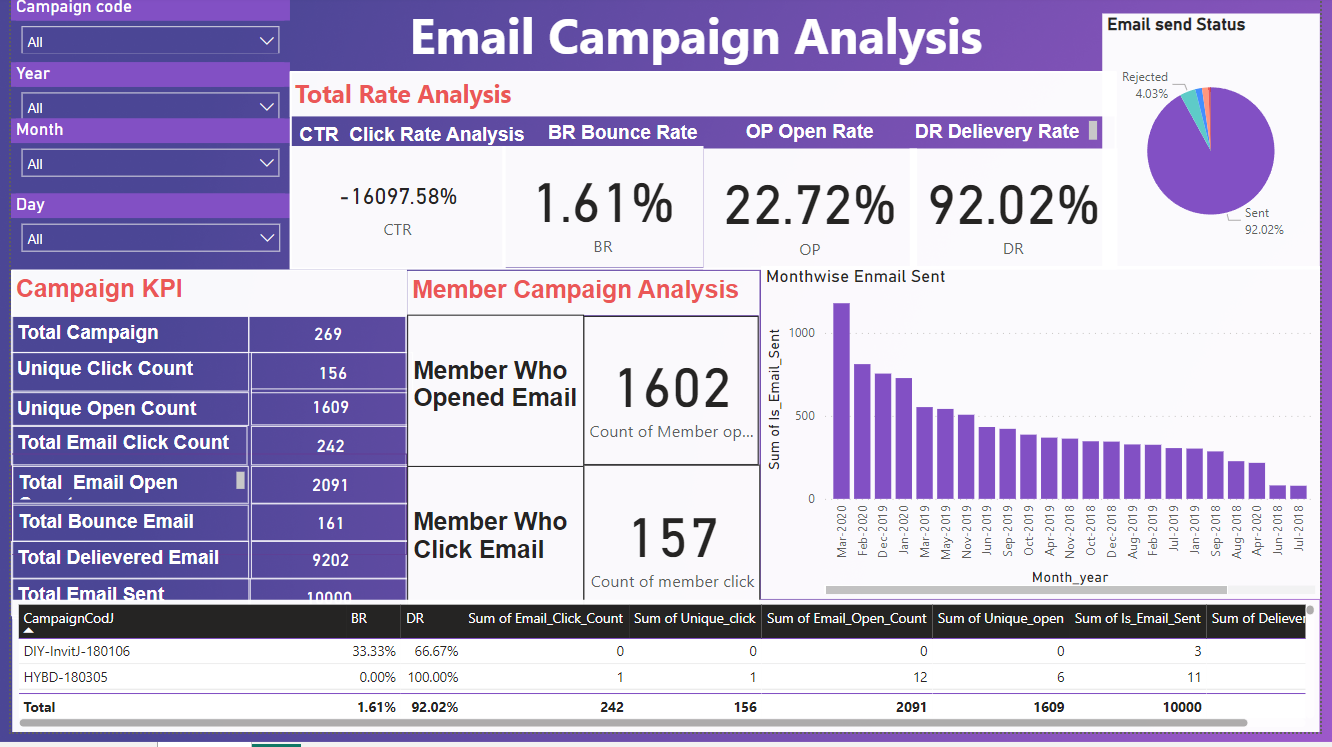

Layout of this report page (visuals, bound fields, positions):
{"tool":"powerbi","page":{"name":"Page 1","canvas":[1280,720],"ordinal":0},"visuals":[{"type":"slicer","title":"Campaign code","fields":{"Values":["EmailAnalysis xlsx - TBL_Communication.Email_SentDate"]},"box":[0,0,272.5,56.2],"z":0},{"type":"slicer","title":"Year","fields":{"Values":["EmailAnalysis xlsx - TBL_Communication.Email_SentDate.Variation.Date Hierarchy.Year"]},"box":[0,65,272.5,63.8],"z":1000},{"type":"slicer","title":"Month","fields":{"Values":["EmailAnalysis xlsx - TBL_Communication.Email_SentDate.Variation.Date Hierarchy.Month"]},"box":[0,120,272.5,72.5],"z":2000},{"type":"slicer","title":"Day","fields":{"Values":["EmailAnalysis xlsx - TBL_Communication.Email_SentDate.Variation.Date Hierarchy.Day"]},"box":[0,192.9,272.9,74.3],"z":3000},{"type":"textbox","box":[272.9,0,794.3,77.1],"z":4000},{"type":"shape","box":[272.9,72.9,808.6,194.3],"z":5000},{"type":"textbox","box":[272.9,74.3,808.6,42.9],"z":6000},{"type":"textbox","box":[273.1,119.5,238.9,31.3],"z":7000},{"type":"textbox","box":[510,118.6,177.1,31.4],"z":8000},{"type":"textbox","box":[697.1,117.1,168.6,31.4],"z":9000},{"type":"textbox","box":[878.6,117.1,188.6,30],"z":10000},{"type":"shape","box":[1.4,267.1,385.7,341.4],"z":11000},{"type":"textbox","box":[0,267.1,387.1,45.7],"z":12000},{"type":"shape","box":[0,447.9,387.3,99.5],"z":13000},{"type":"textbox","box":[0,348.6,232.9,38.6],"z":14000},{"type":"textbox","box":[0,312.9,232.9,35.7],"z":15000},{"type":"textbox","box":[0,387.1,232.9,32.9],"z":16000},{"type":"textbox","box":[0,420,231.4,38.6],"z":17000},{"type":"textbox","box":[1.4,460,231.4,37.1],"z":18000},{"type":"textbox","box":[1.4,497.1,231.4,35.7],"z":19000},{"type":"textbox","box":[0,532.9,232.9,37.1],"z":20000},{"type":"textbox","box":[0,570,234.3,37.1],"z":21000},{"type":"card","fields":{"Values":["Count(EmailAnalysis xlsx - TBL_Communication.CampaignCodJ)"]},"box":[232.9,312.9,154.3,35.7],"z":22000},{"type":"card","fields":{"Values":["Sum(EmailAnalysis xlsx - TBL_Communication.Unique_click)"]},"box":[234.3,348.6,158.6,40],"z":23000},{"type":"card","fields":{"Values":["Sum(EmailAnalysis xlsx - TBL_Communication.Unique_open)"]},"box":[234.3,384.3,154.3,35.7],"z":24000},{"type":"card","fields":{"Values":["Sum(EmailAnalysis xlsx - TBL_Communication.Email_Click_Count)"]},"box":[234.3,420,154.3,38.6],"z":25000},{"type":"card","fields":{"Values":["Sum(EmailAnalysis xlsx - TBL_Communication.Email_Open_Count)"]},"box":[234.3,460,154.3,37.1],"z":26000},{"type":"card","fields":{"Values":["Sum(EmailAnalysis xlsx - TBL_Communication.Bounced_Email)"]},"box":[234.3,495.7,154.3,37.1],"z":27000},{"type":"card","fields":{"Values":["Sum(EmailAnalysis xlsx - TBL_Communication.Delievered_Email)"]},"box":[234.3,532.9,154.3,37.1],"z":28000},{"type":"card","fields":{"Values":["Sum(EmailAnalysis xlsx - TBL_Communication.Is_Email_Sent)"]},"box":[232.9,570,155.7,38.6],"z":29000},{"type":"card","fields":{"Values":["EmailAnalysis xlsx - TBL_Communication.CTR"]},"box":[272.9,147.1,211.4,120],"z":30000},{"type":"card","fields":{"Values":["EmailAnalysis xlsx - TBL_Communication.BR"]},"box":[480,147.1,197.1,118.6],"z":31000},{"type":"card","fields":{"Values":["EmailAnalysis xlsx - TBL_Communication.OP"]},"box":[677.1,148.6,208.6,118.6],"z":32000},{"type":"card","fields":{"Values":["EmailAnalysis xlsx - TBL_Communication.DR"]},"box":[878.6,148.6,202.9,117.1],"z":33000},{"type":"shape","box":[388.6,268.6,342.9,340],"z":34000},{"type":"textbox","box":[387.1,268.6,344.3,42.9],"z":35000},{"type":"textbox","box":[387.1,311.4,172.9,148.6],"z":36000},{"type":"textbox","box":[387.1,460,172.9,148.6],"z":37000},{"type":"card","fields":{"Values":["Count(EmailAnalysis xlsx - TBL_Communication.Member open)"]},"box":[560,312.9,171.4,145.7],"z":38000},{"type":"card","fields":{"Values":["Count(EmailAnalysis xlsx - TBL_Communication.member click)"]},"box":[560,458.6,172.9,148.6],"z":39000},{"type":"pieChart","title":"Email send Status","fields":{"Category":["EmailAnalysis xlsx - TBL_Communication.Email_Sent_Status"],"Y":["Sum(EmailAnalysis xlsx - TBL_Communication.Is_Email_Sent)"]},"box":[1067.1,17.1,212.9,250],"z":40000},{"type":"columnChart","title":" Monthwise Enmail Sent","fields":{"Category":["EmailAnalysis xlsx - TBL_Communication.Month_year"],"Y":["Sum(EmailAnalysis xlsx - TBL_Communication.Is_Email_Sent)"]},"box":[732.9,264.3,547.1,325.7],"z":41000},{"type":"tableEx","fields":{"Values":["EmailAnalysis xlsx - TBL_Communication.CampaignCodJ","EmailAnalysis xlsx - TBL_Communication.BR","EmailAnalysis xlsx - TBL_Communication.DR","Sum(EmailAnalysis xlsx - TBL_Communication.Email_Click_Count)","Sum(EmailAnalysis xlsx - TBL_Communication.Unique_click)","Sum(EmailAnalysis xlsx - TBL_Communication.Email_Open_Count)","Sum(EmailAnalysis xlsx - TBL_Communication.Unique_open)","Sum(EmailAnalysis xlsx - TBL_Communication.Is_Email_Sent)","Sum(EmailAnalysis xlsx - TBL_Communication.Delievered_Email)"]},"box":[1.4,590,1278.6,130],"z":42000}]}

Visuals, with their boxes in screenshot pixels (x1, y1, x2, y2), scaled from the page's 1280x720 canvas onto the 1332x747 screenshot:
"Campaign code" slicer: BBox(0, 0, 284, 58)
"Year" slicer: BBox(0, 67, 284, 134)
"Month" slicer: BBox(0, 125, 284, 200)
"Day" slicer: BBox(0, 200, 284, 277)
textbox: BBox(284, 0, 1111, 80)
shape: BBox(284, 76, 1125, 277)
textbox: BBox(284, 77, 1125, 122)
textbox: BBox(284, 124, 533, 156)
textbox: BBox(531, 123, 715, 156)
textbox: BBox(725, 121, 901, 154)
textbox: BBox(914, 121, 1111, 153)
shape: BBox(1, 277, 403, 631)
textbox: BBox(0, 277, 403, 325)
shape: BBox(0, 465, 403, 568)
textbox: BBox(0, 362, 242, 402)
textbox: BBox(0, 325, 242, 362)
textbox: BBox(0, 402, 242, 436)
textbox: BBox(0, 436, 241, 476)
textbox: BBox(1, 477, 242, 516)
textbox: BBox(1, 516, 242, 553)
textbox: BBox(0, 553, 242, 591)
textbox: BBox(0, 591, 244, 630)
card - Count(EmailAnalysis xlsx - TBL_Communication.CampaignCodJ): BBox(242, 325, 403, 362)
card - Sum(EmailAnalysis xlsx - TBL_Communication.Unique_click): BBox(244, 362, 409, 403)
card - Sum(EmailAnalysis xlsx - TBL_Communication.Unique_open): BBox(244, 399, 404, 436)
card - Sum(EmailAnalysis xlsx - TBL_Communication.Email_Click_Count): BBox(244, 436, 404, 476)
card - Sum(EmailAnalysis xlsx - TBL_Communication.Email_Open_Count): BBox(244, 477, 404, 516)
card - Sum(EmailAnalysis xlsx - TBL_Communication.Bounced_Email): BBox(244, 514, 404, 553)
card - Sum(EmailAnalysis xlsx - TBL_Communication.Delievered_Email): BBox(244, 553, 404, 591)
card - Sum(EmailAnalysis xlsx - TBL_Communication.Is_Email_Sent): BBox(242, 591, 404, 631)
card - EmailAnalysis xlsx - TBL_Communication.CTR: BBox(284, 153, 504, 277)
card - EmailAnalysis xlsx - TBL_Communication.BR: BBox(499, 153, 705, 276)
card - EmailAnalysis xlsx - TBL_Communication.OP: BBox(705, 154, 922, 277)
card - EmailAnalysis xlsx - TBL_Communication.DR: BBox(914, 154, 1125, 276)
shape: BBox(404, 279, 761, 631)
textbox: BBox(403, 279, 761, 323)
textbox: BBox(403, 323, 583, 477)
textbox: BBox(403, 477, 583, 631)
card - Count(EmailAnalysis xlsx - TBL_Communication.Member open): BBox(583, 325, 761, 476)
card - Count(EmailAnalysis xlsx - TBL_Communication.member click): BBox(583, 476, 763, 630)
"Email send Status" pieChart: BBox(1110, 18, 1331, 277)
" Monthwise Enmail Sent" columnChart: BBox(763, 274, 1331, 612)
tableEx - EmailAnalysis xlsx - TBL_Communication.CampaignCodJ x EmailAnalysis xlsx - TBL_Communication.BR: BBox(1, 612, 1331, 746)
